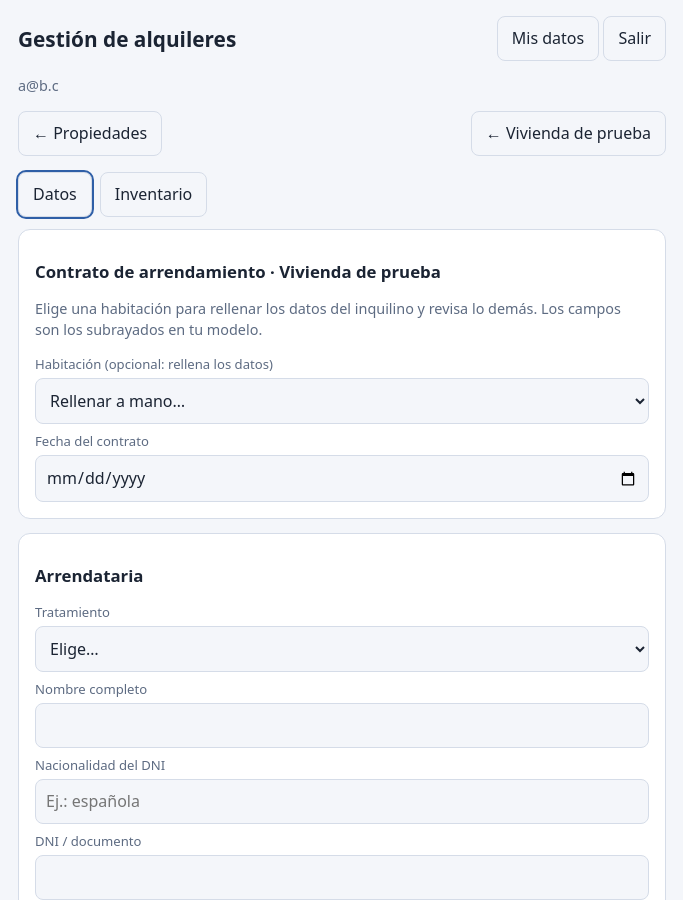
el contrato separa datos e inventario en pestañas
Check: the field labelled "Nacionalidad del DNI" is shown, box [35,779,649,824]
Click the button "Inventario".
click(154, 195)  # box [100,172,207,217]
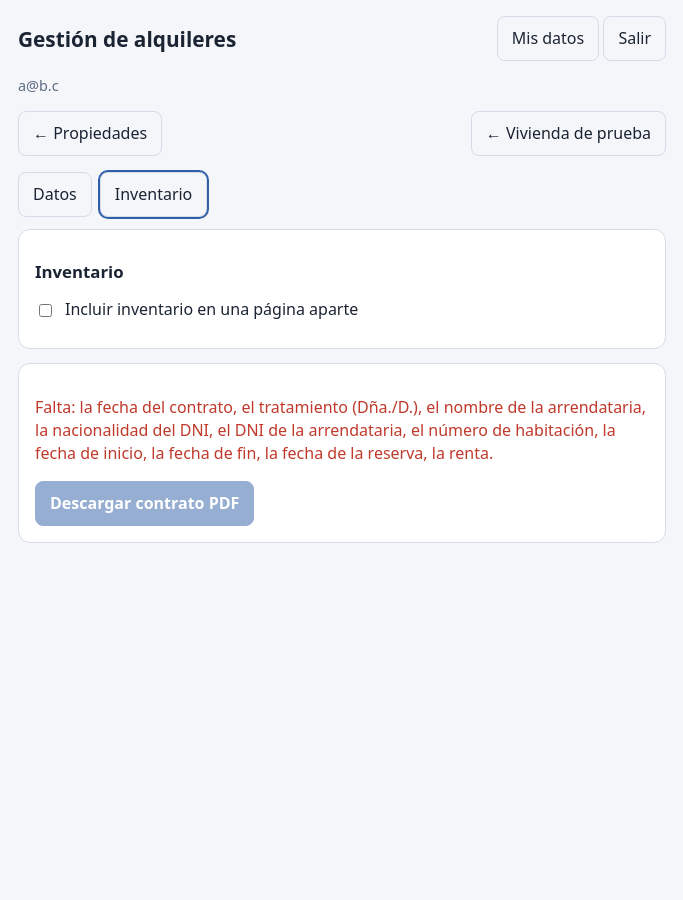
Check: the checkbox labelled "Incluir inventario en una página aparte" is shown, box [39,304,52,316]
Check: the label labelled "Nacionalidad del DNI" is gone
Click the button "Datos".
click(55, 195)  # box [18,172,92,217]
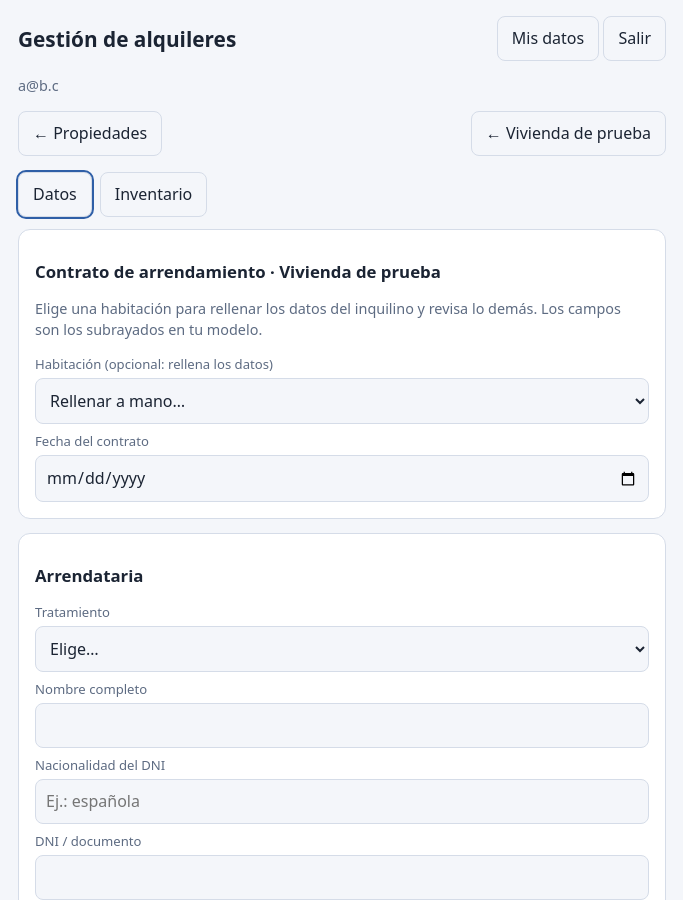
Check: the field labelled "Nacionalidad del DNI" is shown, box [35,779,649,824]
